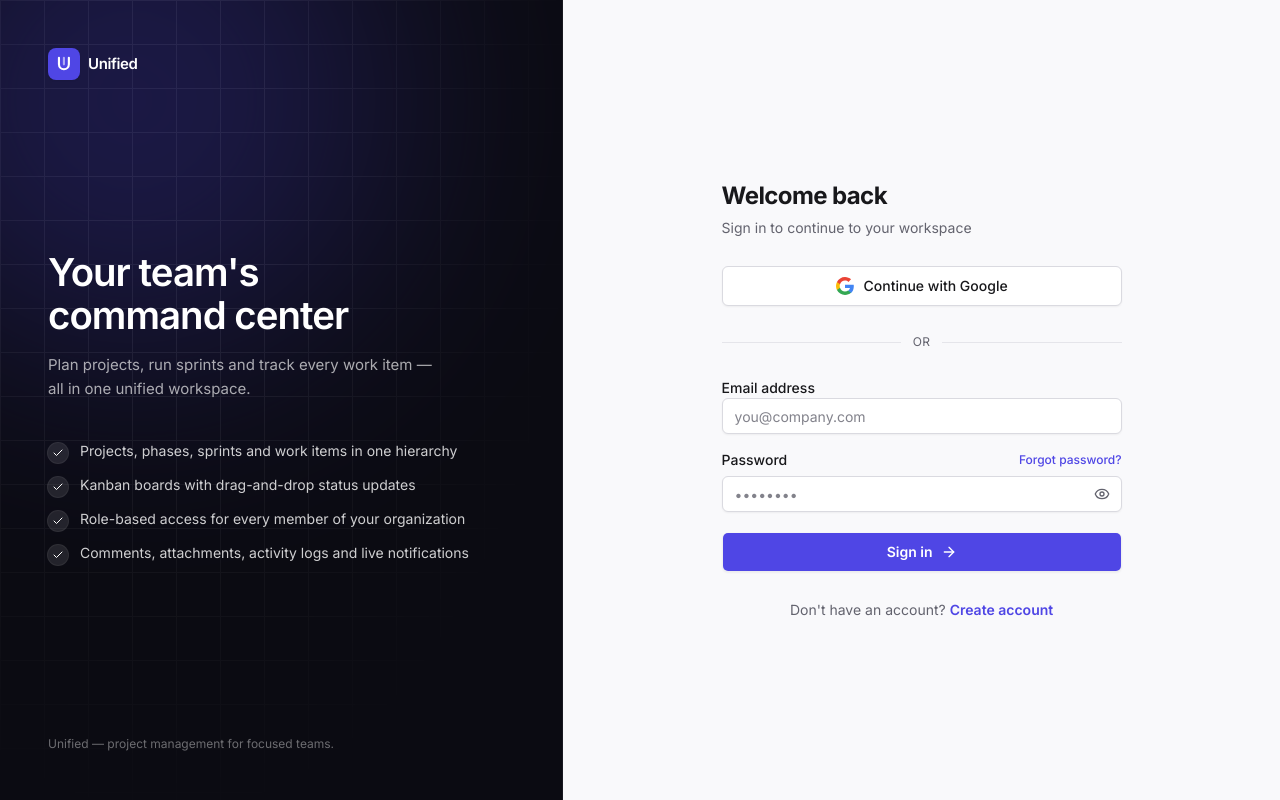
Test: Login Page Component › should display validation errors for empty fields
Click the button "Sign in". click: (922, 552)
box: [722,532,1122,572]
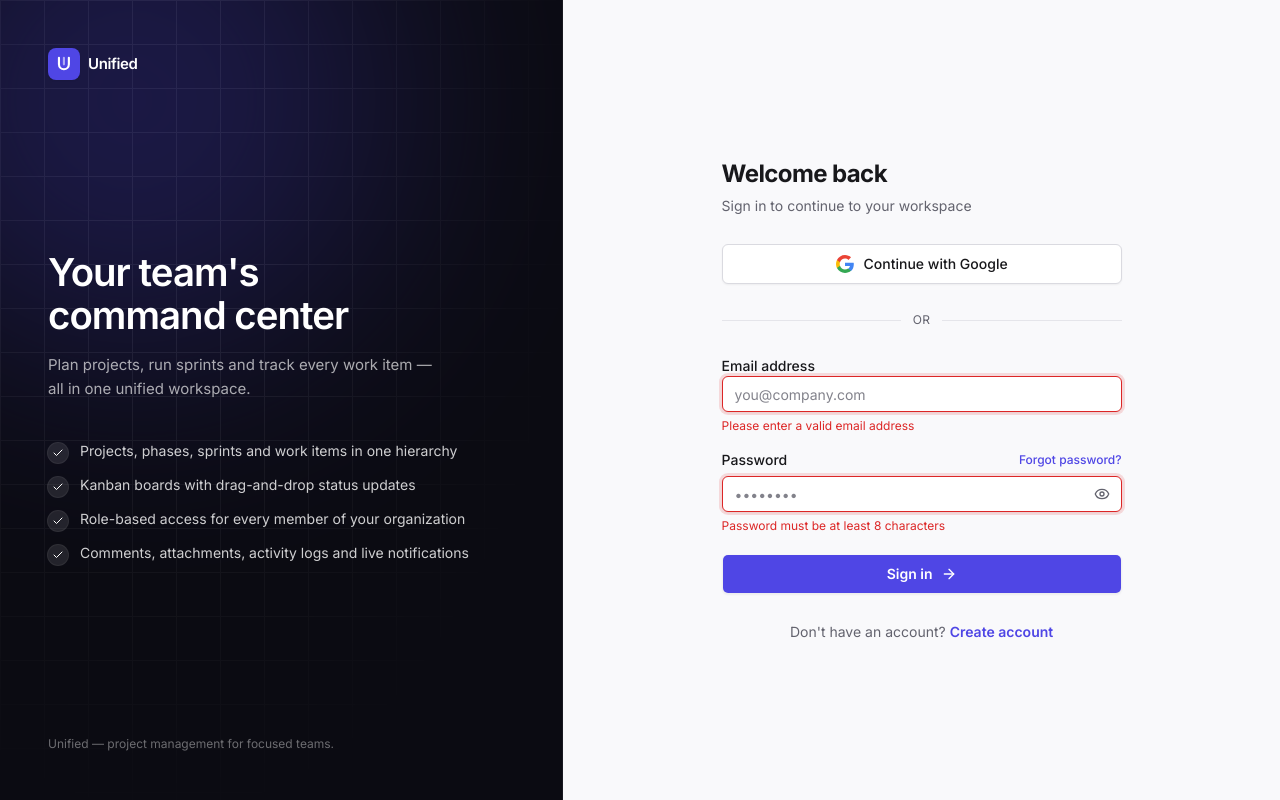
Expected: the text "Please enter a valid email address" is shown, [722,418,914,433]
Expected: the text "Password must be at least 8 characters" is shown, [722,518,945,533]
